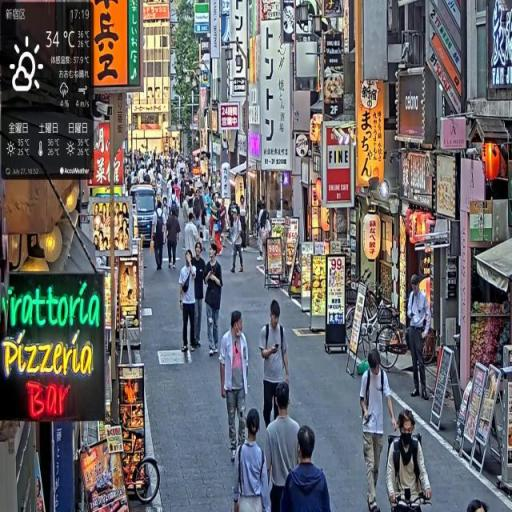person: (360, 350, 401, 512), (387, 408, 434, 512), (220, 309, 251, 460), (266, 384, 302, 512), (282, 425, 333, 512), (260, 299, 291, 434), (236, 407, 272, 512), (406, 275, 431, 402), (205, 244, 225, 359), (180, 248, 199, 360), (192, 242, 209, 351), (152, 202, 167, 272), (167, 205, 183, 269), (231, 211, 246, 276)
